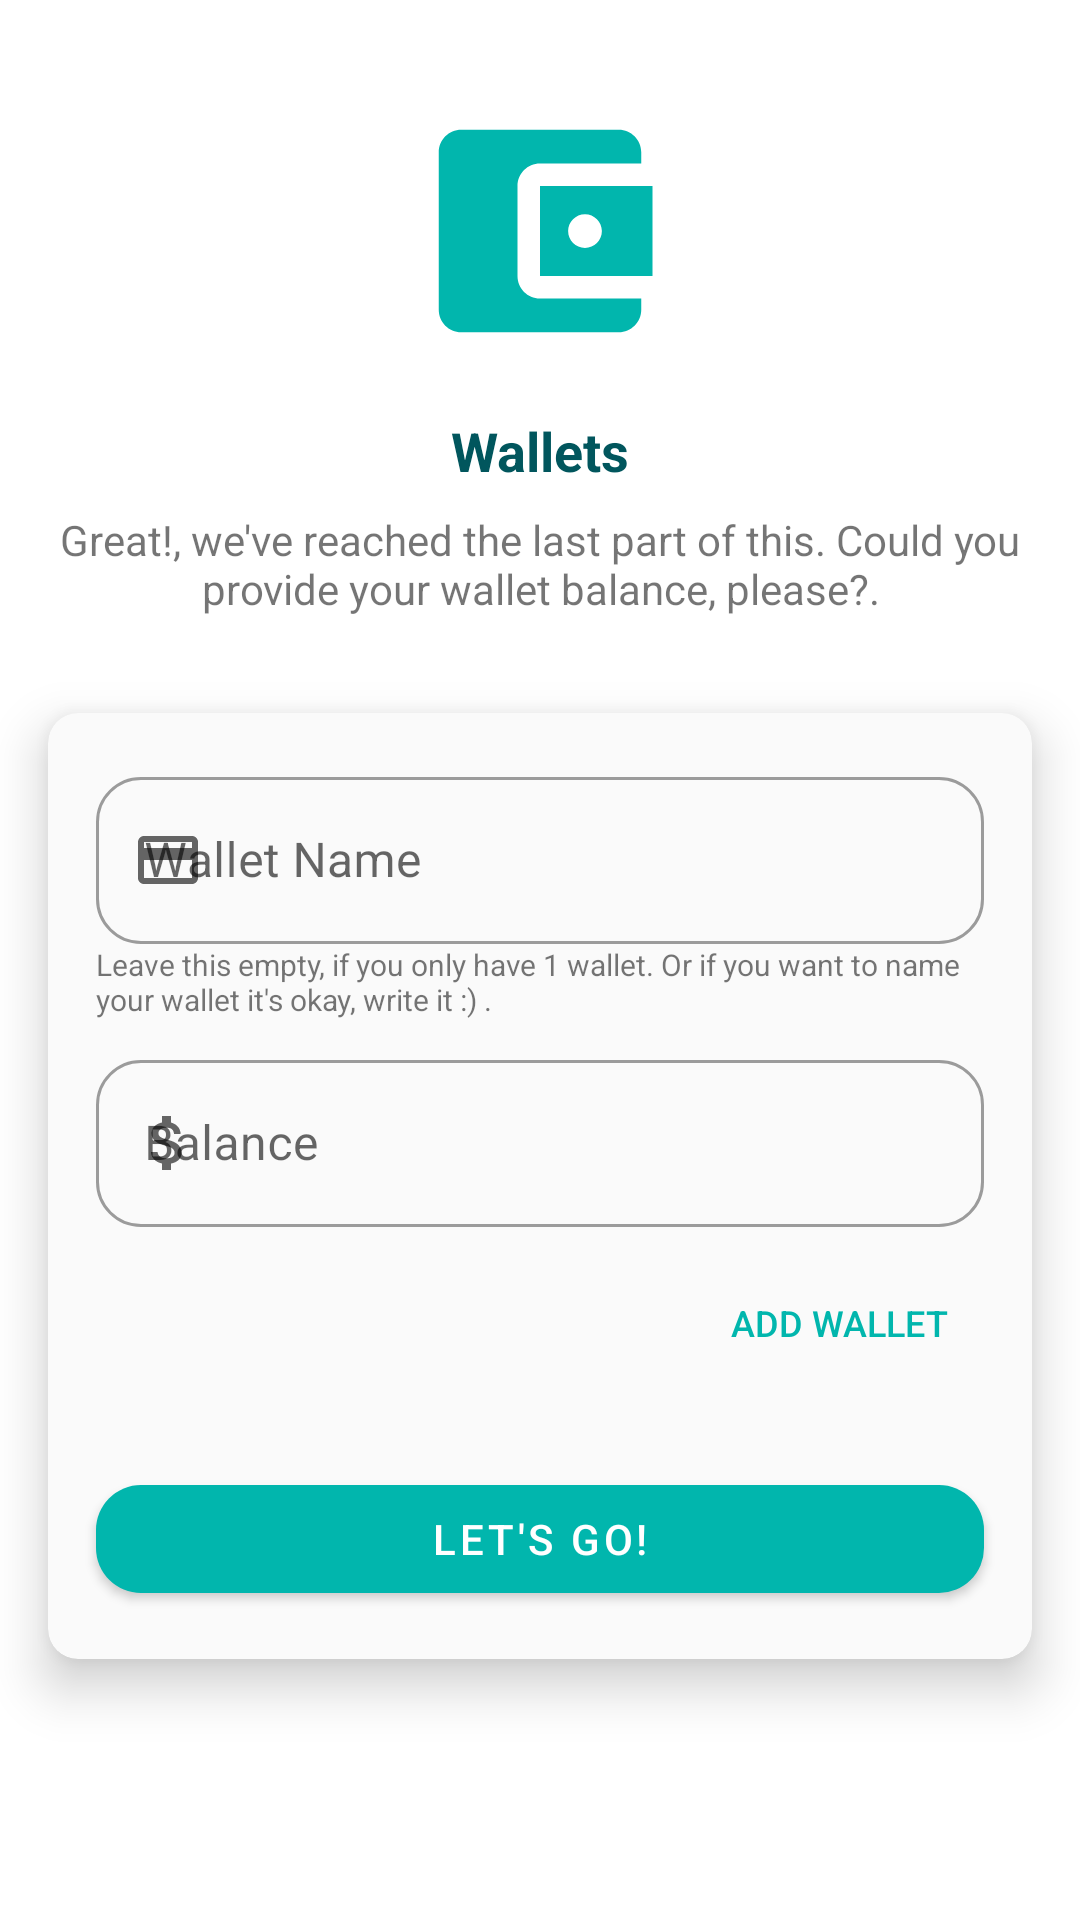

Icon bounding boxes for this 1080w x 1920h phone screenshot, format (x1, y1, x2, y2):
account balance wallet: (438, 129, 653, 333)
